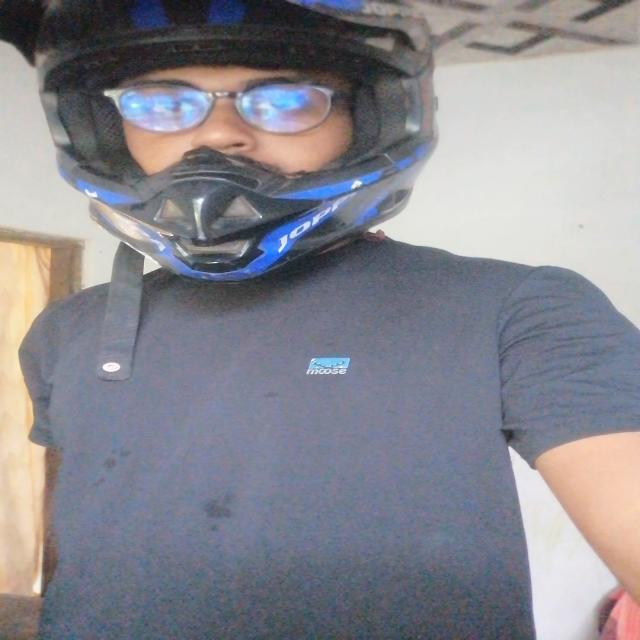Helmet_Wearer: (26, 0, 503, 318)
